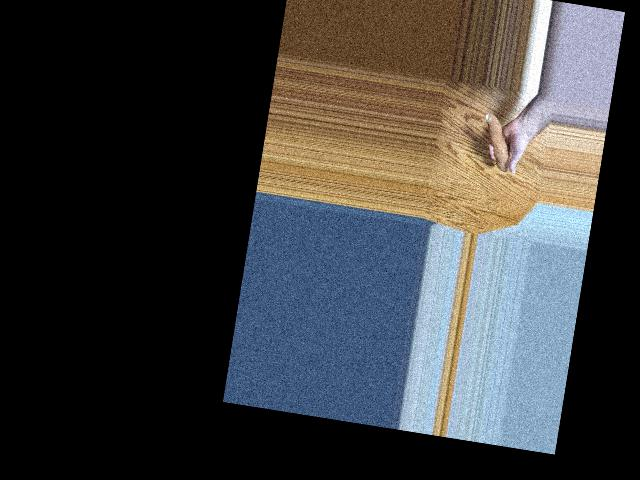sweet_potato: (477, 111, 515, 174)
